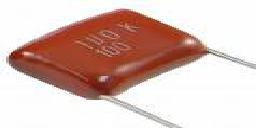Electrolytic Capacitor: (8, 6, 210, 106)
